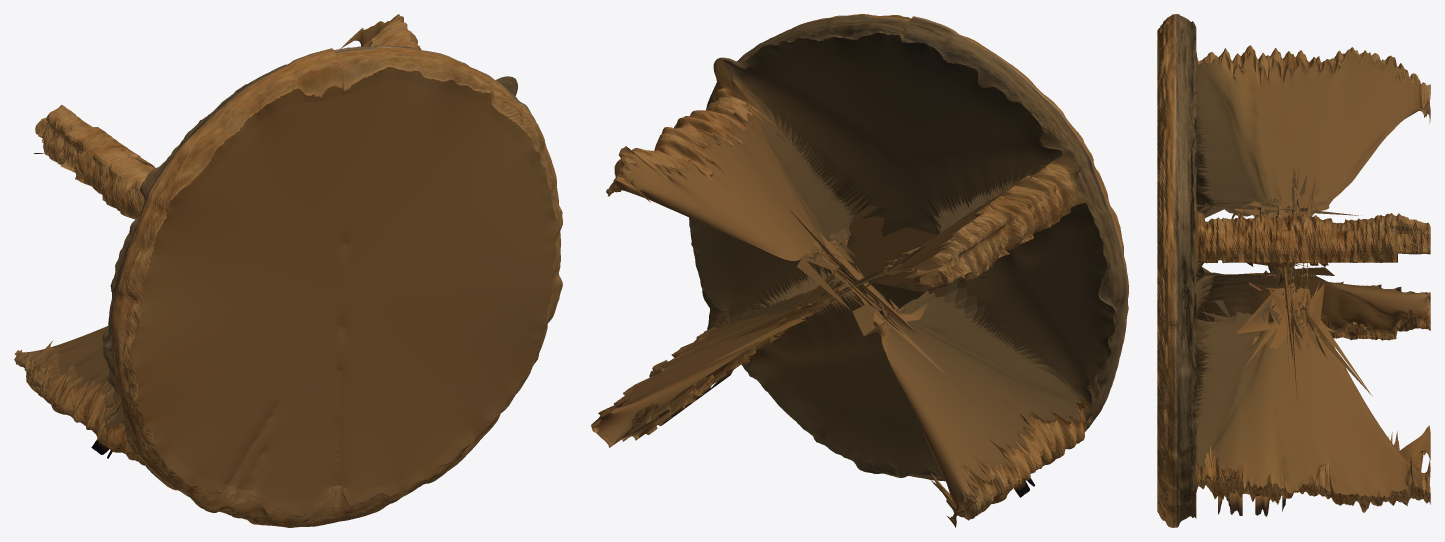
The model's file is mesh_inpaint.glb.
3 views of the same model, side by side, from view 1: azimuth 30°, elevation 25°; view 2: azimuth 150°, elevation 25°; view 3: azimuth 270°, elevation 25° (orthographic). The views are drawn at different scales.
Visible parts, largest first — view 1: fill, ipn; view 2: fill, ipn; view 3: fill, ipn.
Boxes of the visible parts, bbox=[...] form: fill: bbox=[14, 18, 556, 516]; ipn: bbox=[14, 14, 562, 527]; fill: bbox=[592, 32, 1114, 516]; ipn: bbox=[591, 14, 1128, 527]; fill: bbox=[1183, 50, 1430, 502]; ipn: bbox=[1157, 14, 1430, 527].
Bounding box in the file's own units: 1.86 × 1.89 × 1.01.
2 materials, 1 textured.
